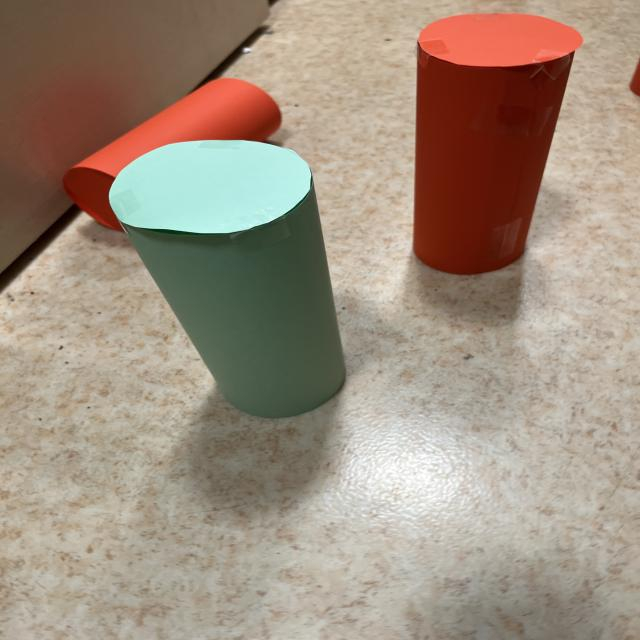meta: (109, 140, 346, 418)
przeszkoda: (413, 14, 582, 274), (63, 78, 281, 231)
